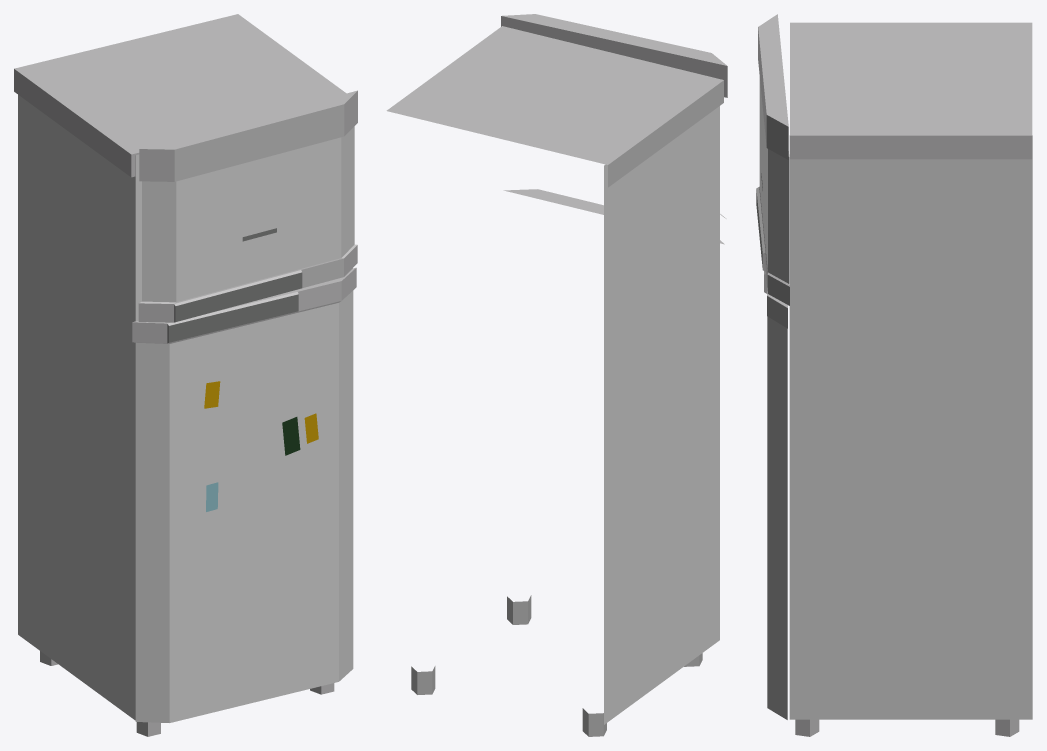
The model's file is Fridge2.glb.
3 views of the same model, side by side, from view 1: azimuth 30°, elevation 25°; view 2: azimuth 150°, elevation 25°; view 3: azimuth 270°, elevation 25° (orthographic). The views are drawn at different scales.
Parts seen in each view (by area): view 1: Fridge2; view 2: Fridge2; view 3: Fridge2.
Part boxes in pixels (bbox=[...]): Fridge2: bbox=[14, 14, 357, 736]; Fridge2: bbox=[386, 14, 727, 736]; Fridge2: bbox=[756, 14, 1032, 736].
Bounding box in the file's own units: 0.9575 × 2.42 × 0.979.
Materials: 1 (1 with a texture image).
